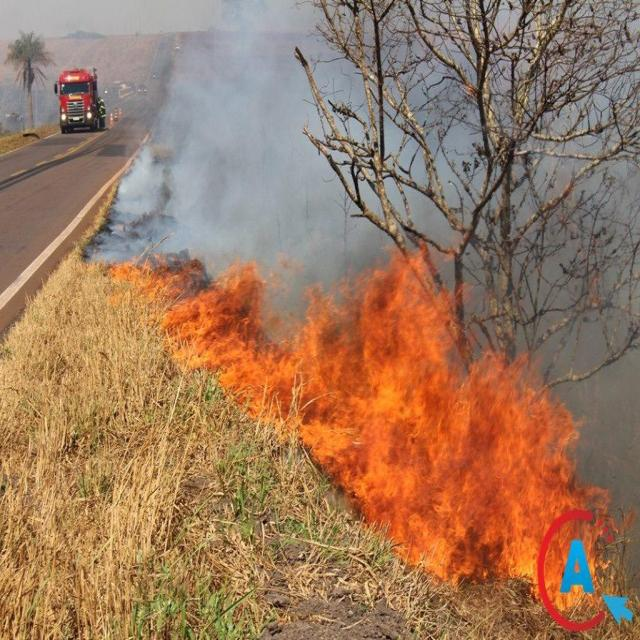Fire: (115, 256, 604, 607)
